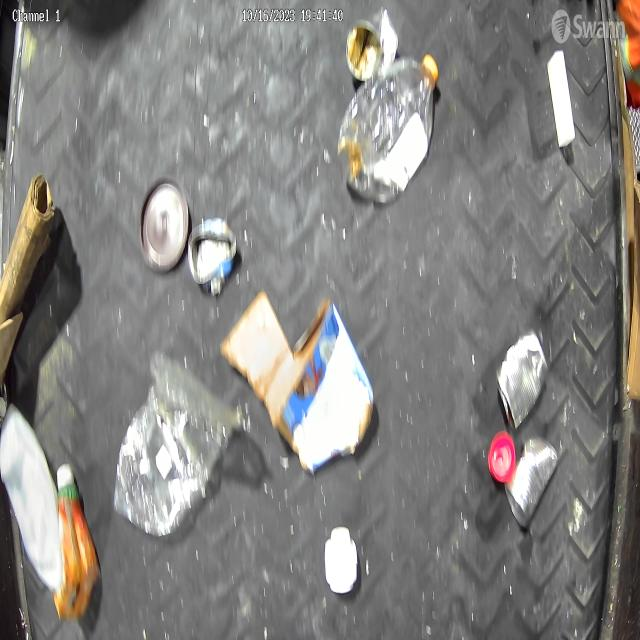can: (495, 329, 550, 433), (504, 434, 560, 531), (345, 6, 400, 82), (188, 218, 238, 291)
milk_jug: (0, 403, 66, 591)
plastic_bottle: (336, 52, 440, 206)
